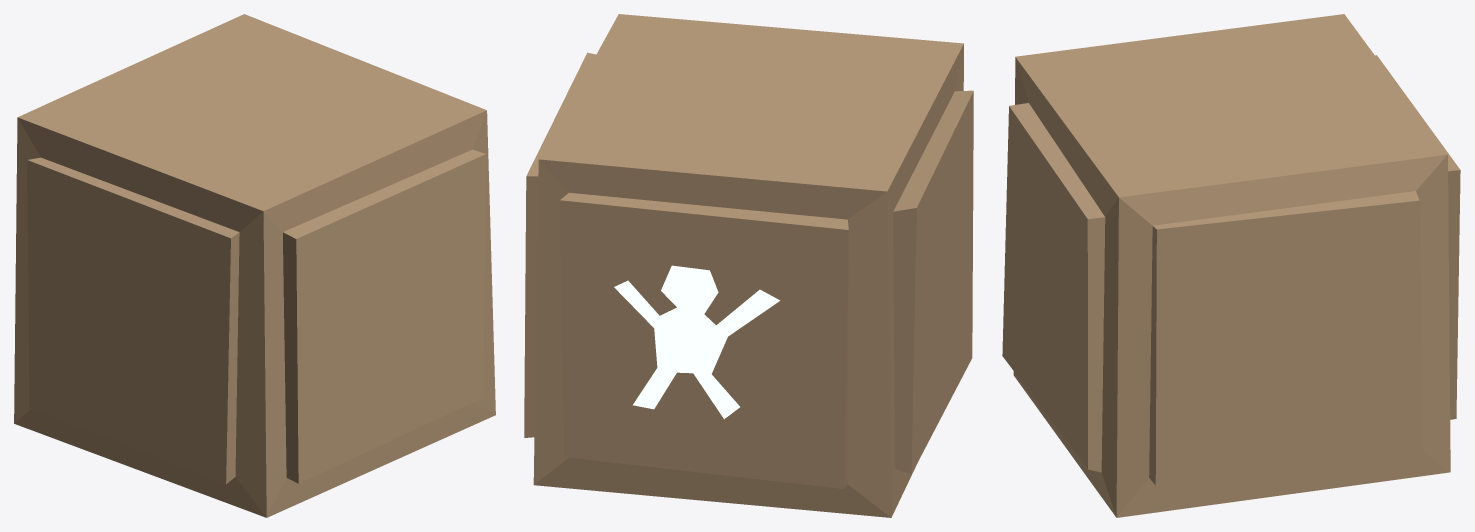
Rendered from Column1.glb.
3 renders of one model, left to right at view 1: azimuth 30°, elevation 25°; view 2: azimuth 150°, elevation 25°; view 3: azimuth 270°, elevation 25°, orthographic. The views are drawn at different scales.
Visible parts, largest first — view 1: Column1.001; view 2: Column1.001; view 3: Column1.001.
Boxes of the visible parts, x1=… form: Column1.001: x1=14, y1=14, x2=495, y2=517; Column1.001: x1=524, y1=14, x2=973, y2=517; Column1.001: x1=1002, y1=14, x2=1460, y2=517.
Size of the model in its own units: 2.61 by 2.02 by 2.63.
Materials: 1 (1 with a texture image).
